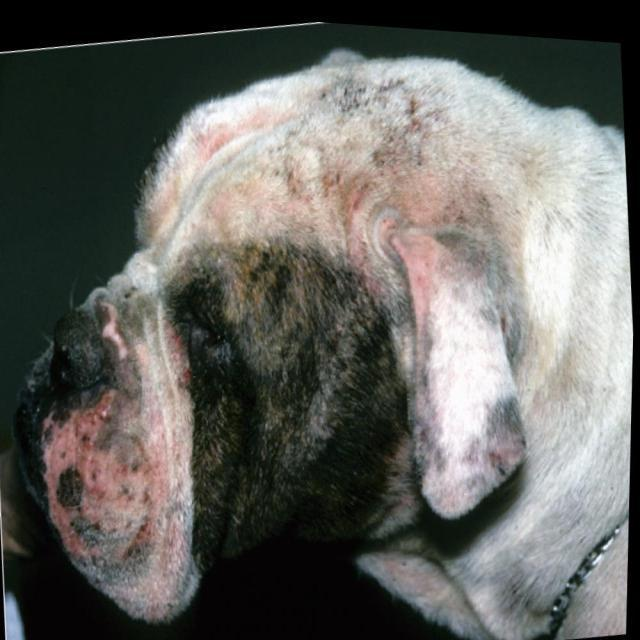allergic dermatitis: (48, 414, 144, 545), (350, 201, 430, 357)
